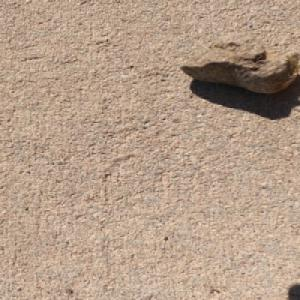Rock: (177, 32, 300, 94)
